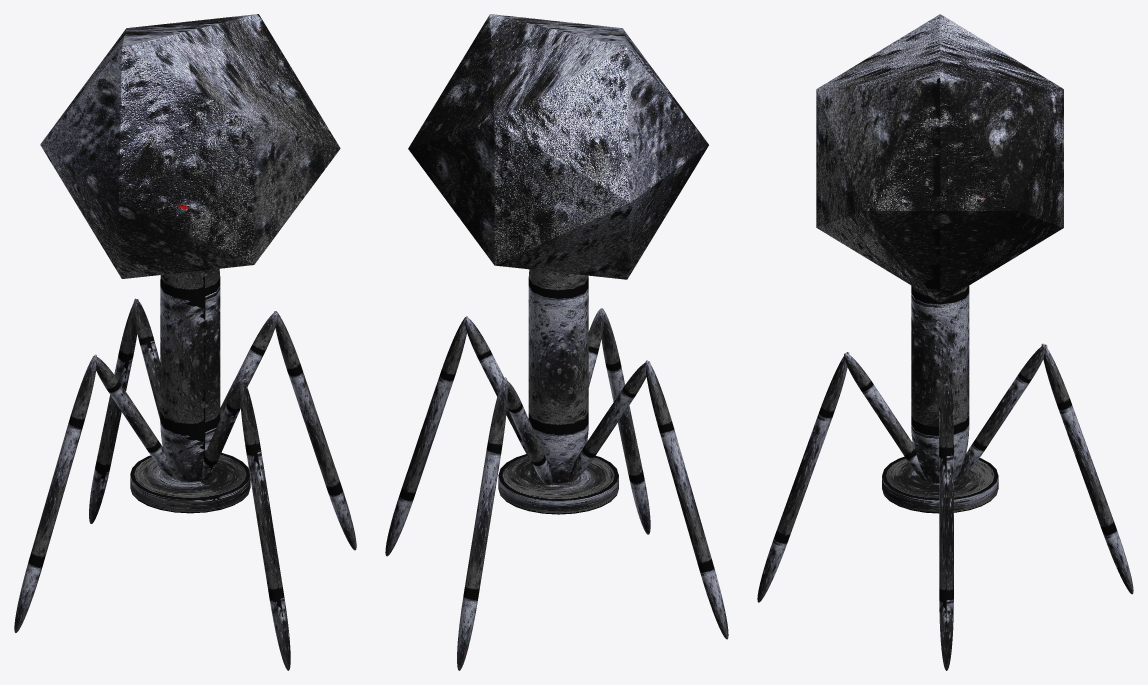
Rendered from virus.obj.
3 renders of one model, left to right at view 1: azimuth 30°, elevation 25°; view 2: azimuth 150°, elevation 25°; view 3: azimuth 270°, elevation 25°, orthographic. The views are drawn at different scales.
Parts seen in each view (by area): view 1: Icosahedron, main_stem, flat_base, leg_1_5, leg_1_4, leg_1_3, leg_1_2, leg_4, leg_1, leg_2, leg_3; view 2: Icosahedron, main_stem, flat_base, leg_1_2, leg_1_4, leg_1_3, leg_1_5, leg_4, leg_1, leg_3, leg_2; view 3: Icosahedron, main_stem, flat_base, leg_1_3, leg_1_2, leg_1_5, leg_1, leg_2.
Boxes of the visible parts, x1=… form: Icosahedron: x1=40, y1=14, x2=340, y2=278; main_stem: x1=160, y1=268, x2=220, y2=481; flat_base: x1=130, y1=452, x2=250, y2=513; leg_1_5: x1=240, y1=378, x2=290, y2=670; leg_1_4: x1=14, y1=354, x2=96, y2=632; leg_1_3: x1=274, y1=311, x2=356, y2=550; leg_1_2: x1=89, y1=299, x2=138, y2=523; leg_4: x1=92, y1=356, x2=173, y2=476; leg_1: x1=133, y1=298, x2=160, y2=419; leg_2: x1=201, y1=379, x2=247, y2=480; leg_3: x1=220, y1=312, x2=277, y2=418; Icosahedron: x1=408, y1=14, x2=708, y2=279; main_stem: x1=528, y1=269, x2=588, y2=483; flat_base: x1=498, y1=454, x2=618, y2=514; leg_1_2: x1=457, y1=377, x2=507, y2=670; leg_1_4: x1=645, y1=360, x2=728, y2=639; leg_1_3: x1=385, y1=316, x2=468, y2=556; leg_1_5: x1=600, y1=309, x2=650, y2=534; leg_4: x1=568, y1=361, x2=650, y2=482; leg_1: x1=502, y1=379, x2=552, y2=484; leg_3: x1=465, y1=317, x2=531, y2=461; leg_2: x1=588, y1=308, x2=604, y2=387; Icosahedron: x1=816, y1=14, x2=1063, y2=302; main_stem: x1=911, y1=285, x2=969, y2=482; flat_base: x1=882, y1=456, x2=998, y2=513; leg_1_3: x1=939, y1=382, x2=953, y2=670; leg_1_2: x1=1041, y1=343, x2=1133, y2=594; leg_1_5: x1=757, y1=352, x2=849, y2=602; leg_1: x1=957, y1=344, x2=1047, y2=477; leg_2: x1=844, y1=353, x2=927, y2=480.
Size of the model in its own units: 1.31 by 2.1 by 1.29.
1 material, 1 textured.
